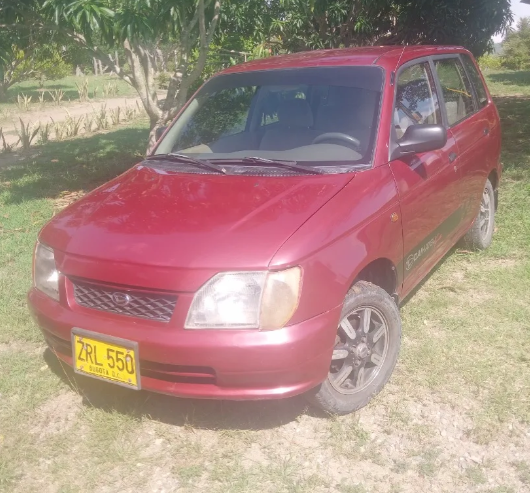placa: (70, 329, 144, 395)
